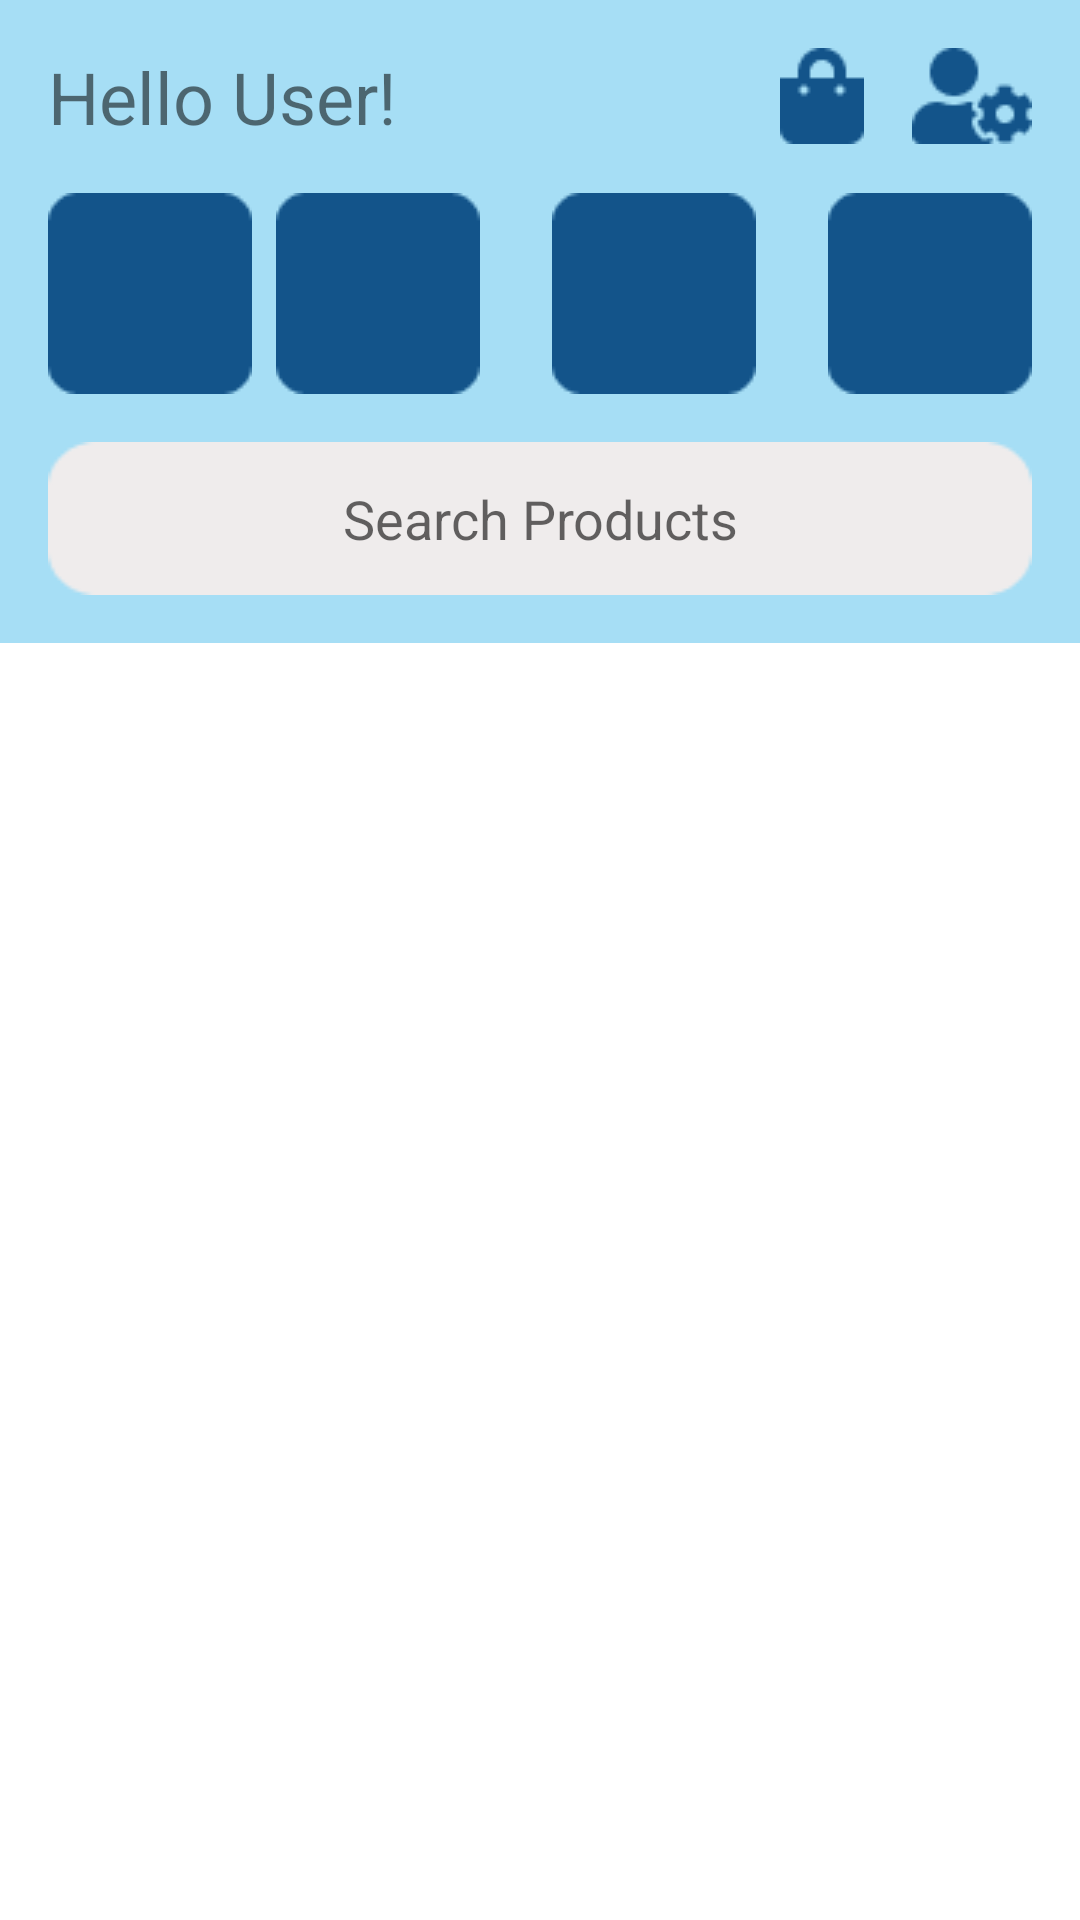

Point at icon controls on the screen. Image size 1080×1920, points as (x,y).
basket: (822,96)
settings: (972,96)
